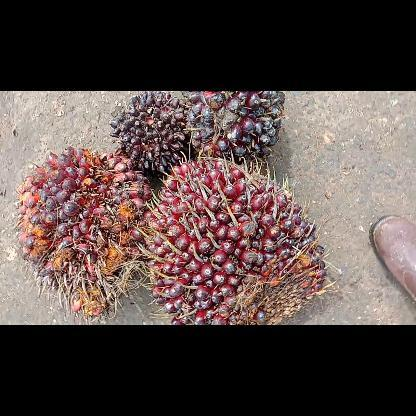Kurang masak: (138, 156, 332, 324), (184, 90, 288, 168)
TBS abnormal: (106, 90, 194, 176)
TBS masak: (12, 144, 154, 318)
